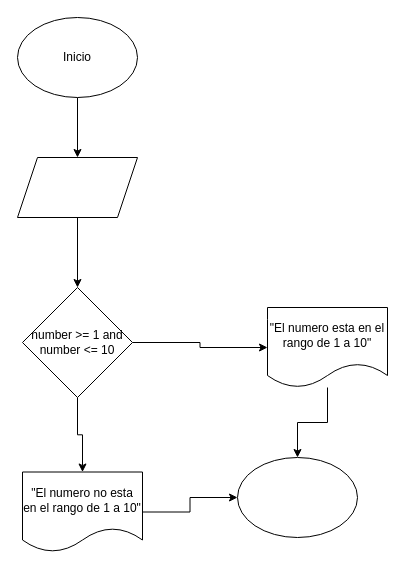
This 405x570 diagram has some shape labels left out. Here are the shapes that lost their labels. From the top down, the box of each, then its label:
(16, 156, 138, 218): number
(236, 456, 358, 538): Fin
